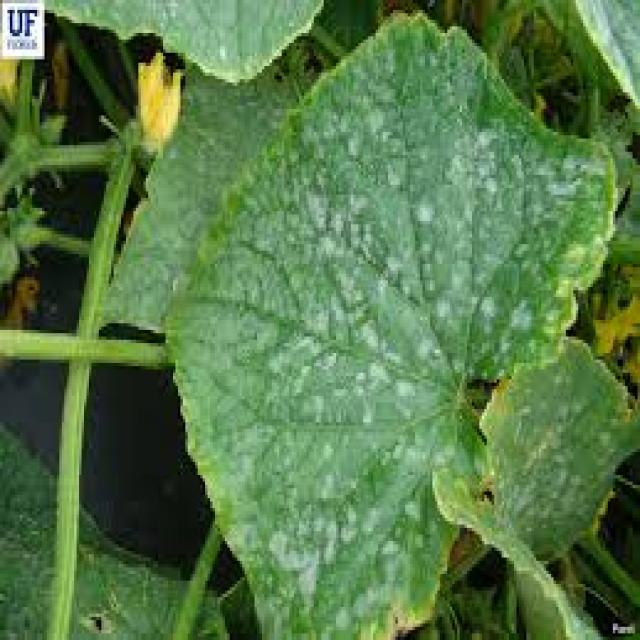powdery-mildew: (459, 115, 591, 223), (307, 116, 368, 348), (272, 507, 361, 626)
